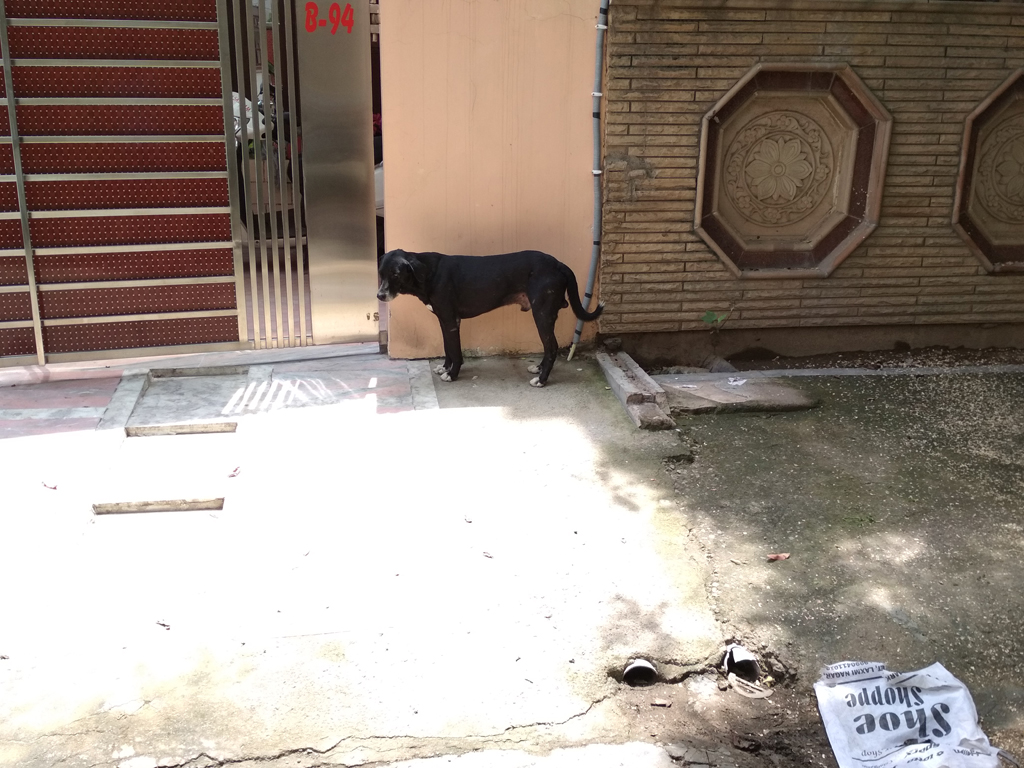dog: (377, 249, 605, 388)
